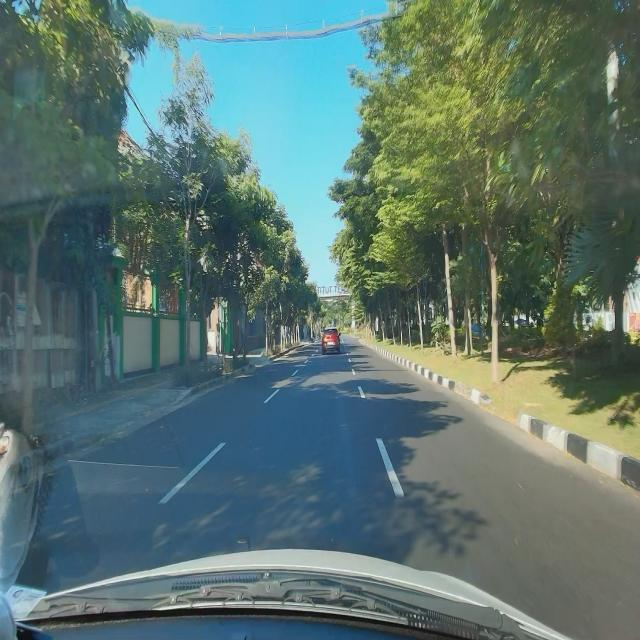car: (321, 326, 341, 355)
